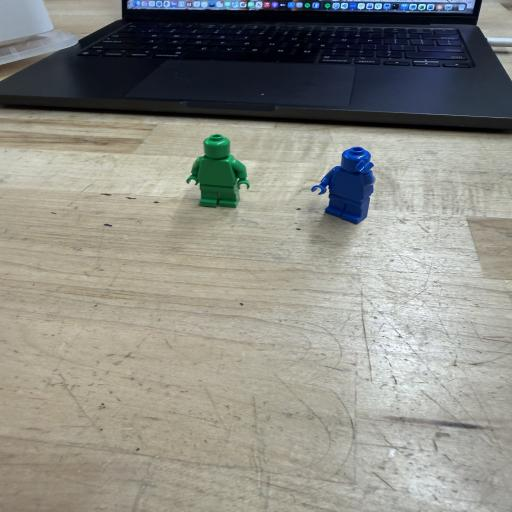blue-minifig: (311, 146, 375, 224)
green-minifig: (186, 134, 250, 208)
